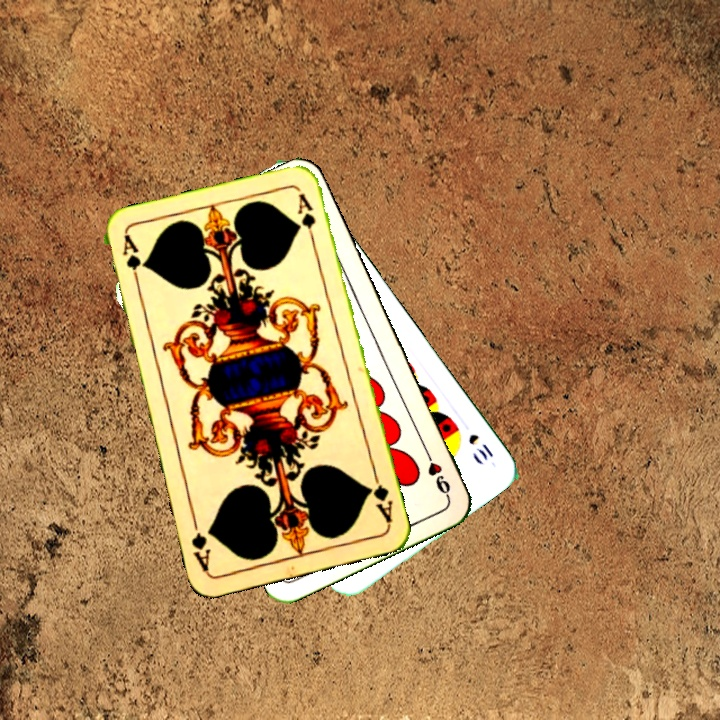GA: (363, 468, 396, 527), (118, 231, 145, 290)
H9: (420, 445, 453, 500)
S10: (464, 429, 496, 463)
